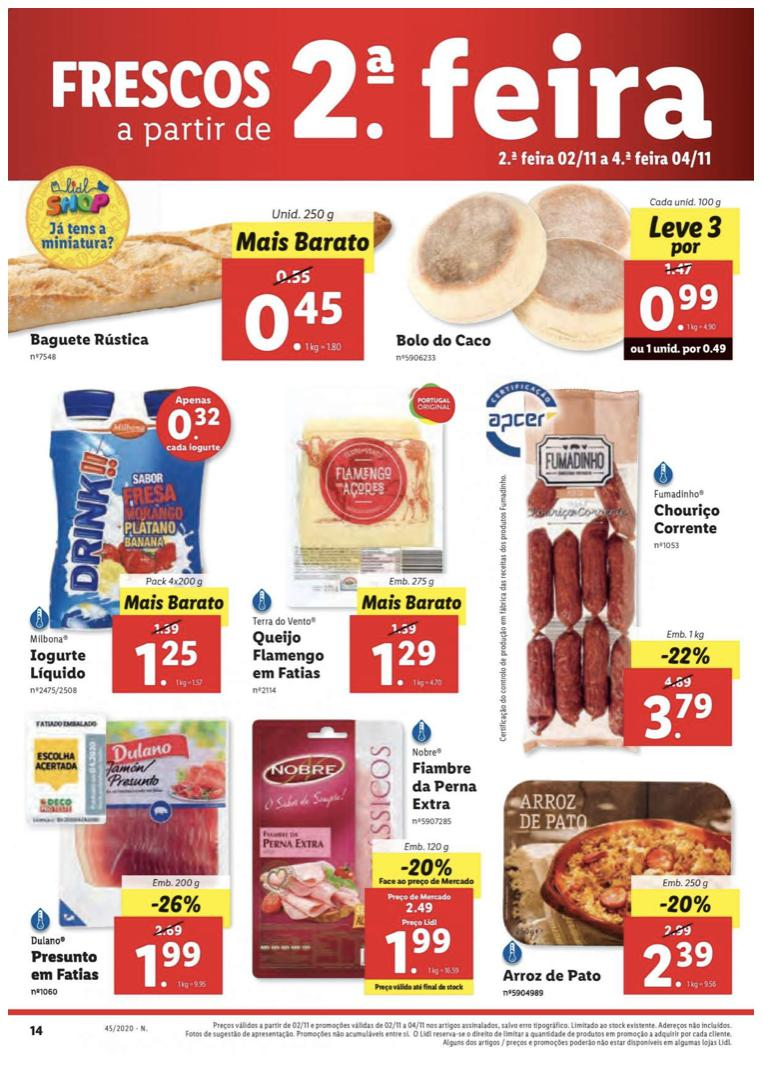name: (250, 626, 328, 684), (407, 758, 479, 813), (24, 326, 153, 352), (25, 950, 104, 986), (27, 644, 93, 684), (396, 329, 494, 350), (499, 968, 606, 985)
price: (243, 285, 354, 358), (636, 280, 727, 336), (378, 917, 462, 977), (640, 940, 723, 996), (133, 938, 210, 994), (637, 689, 714, 743)
product: (479, 386, 760, 756), (393, 181, 760, 386), (16, 383, 246, 704), (18, 194, 395, 386), (246, 383, 469, 701), (244, 713, 487, 996), (10, 711, 235, 1002), (482, 770, 757, 998)
promotion: (654, 644, 716, 671), (398, 855, 457, 880), (145, 893, 206, 917), (657, 893, 715, 917)
